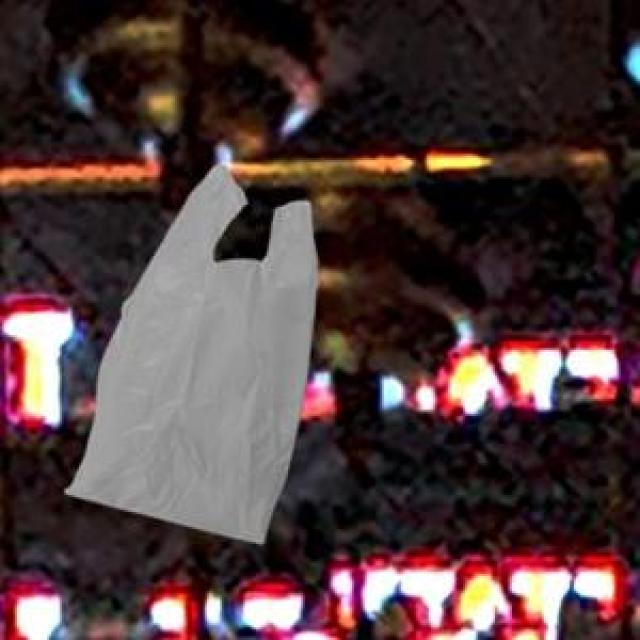Plastic_Bag: (63, 161, 315, 541)
